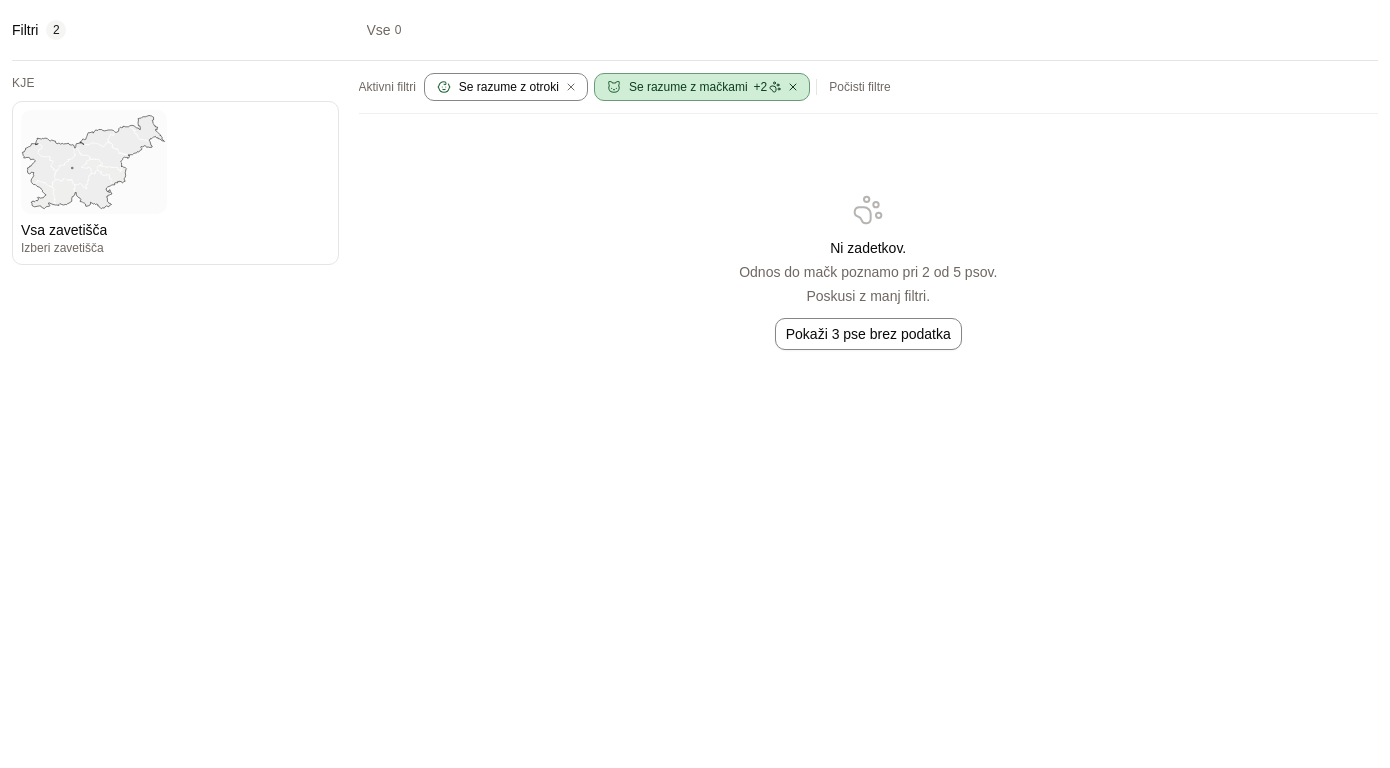
Test: the empty state › offers the band beside its own lines when nothing matches
Expected: the text "Ni zadetkov." is shown, 830,240 -> 906,256
Expected: the text "Odnos do mačk poznamo pri 2 od 5 psov." is shown, 739,262 -> 997,282
Click the button "Pokaži 3 pse brez podatka" at x=868, y=334, box 775,318 -> 962,350
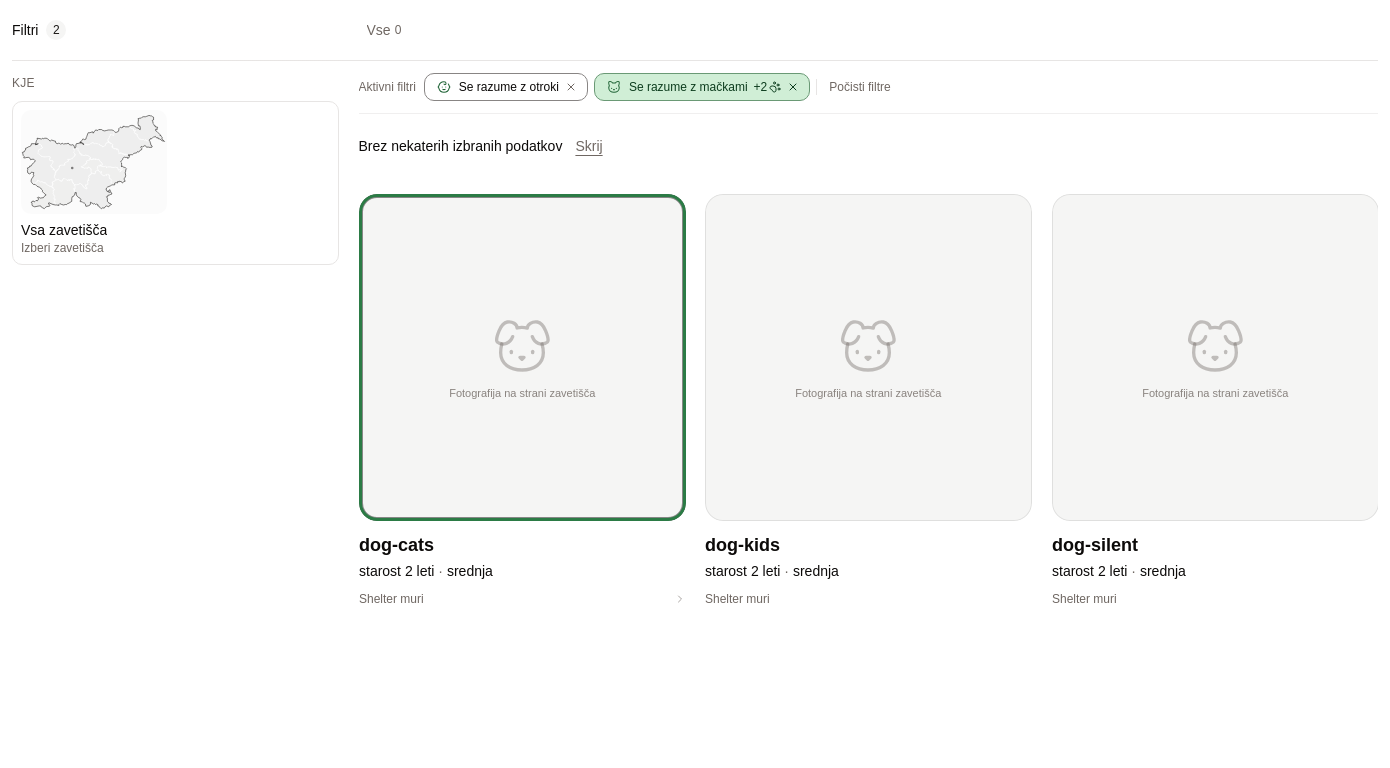
Now the text "Ni zadetkov." is gone
Now the heading "Brez nekaterih izbranih podatkov" is shown, box 358,136 -> 562,156
Hiding it puts the empty state back, with focus on its offer.
Click the button "Skrij" at x=589, y=146, box 574,130 -> 604,162
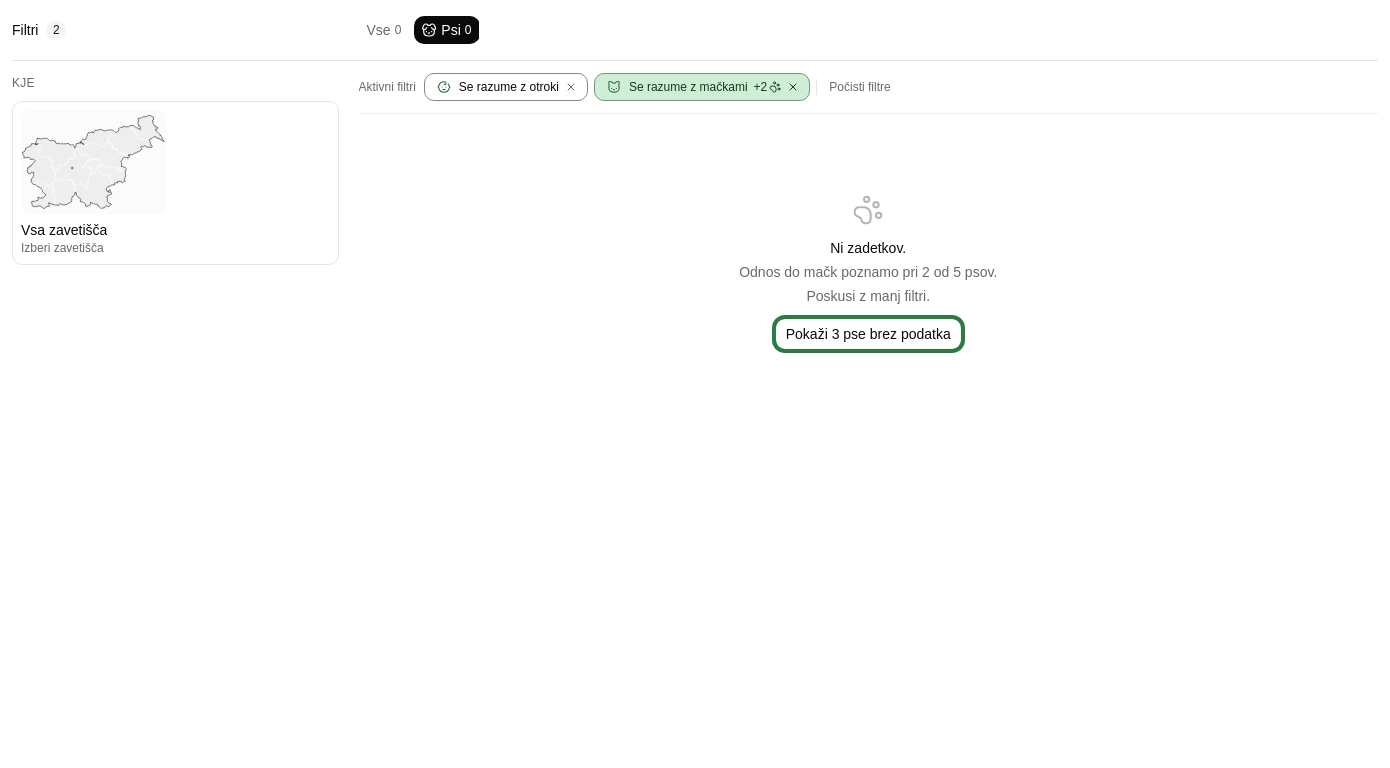
Now the text "Ni zadetkov." is shown, box 830,240 -> 906,256
